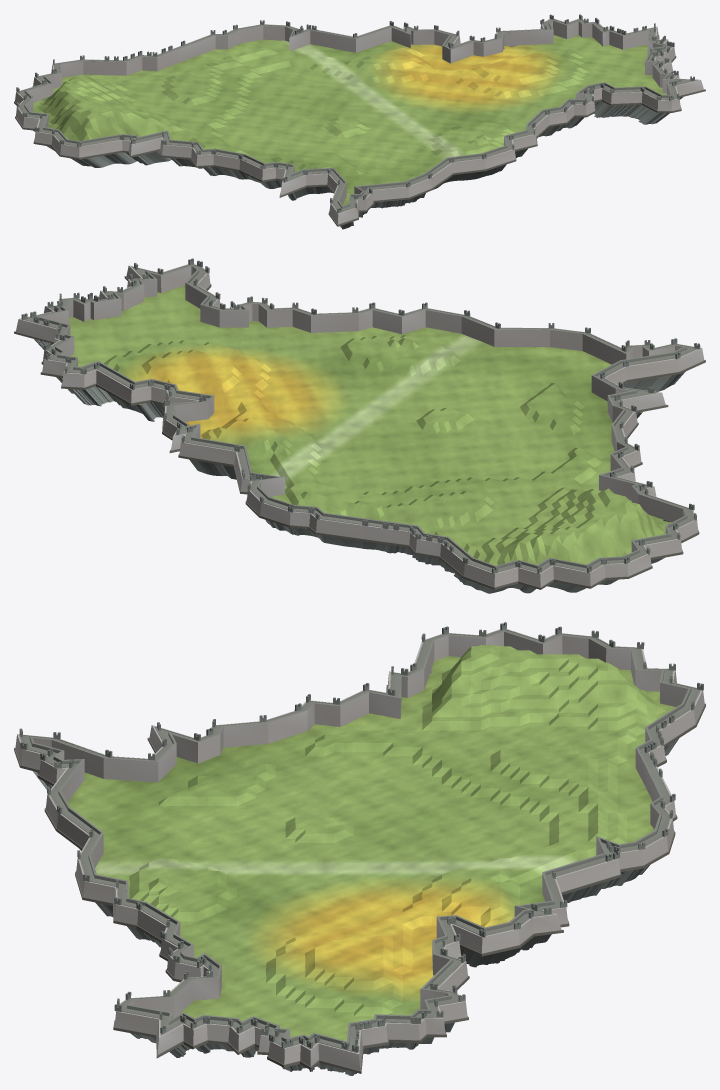
The picture shows the model from 3 angles, top to bottom: view 1: azimuth 30°, elevation 25°; view 2: azimuth 150°, elevation 25°; view 3: azimuth 270°, elevation 25°; orthographic projection. The views are drawn at different scales.
Parts seen in each view (by area): view 1: ground_b8bbedc5; view 2: ground_b8bbedc5; view 3: ground_b8bbedc5.
Part boxes in pixels (x1,y1,x2,y2): ground_b8bbedc5: (14,14,705,229); ground_b8bbedc5: (14,258,705,593); ground_b8bbedc5: (14,622,705,1075).
Size of the model in its own units: 156 by 9.91 by 106.
Materials: 3 (1 with a texture image).
